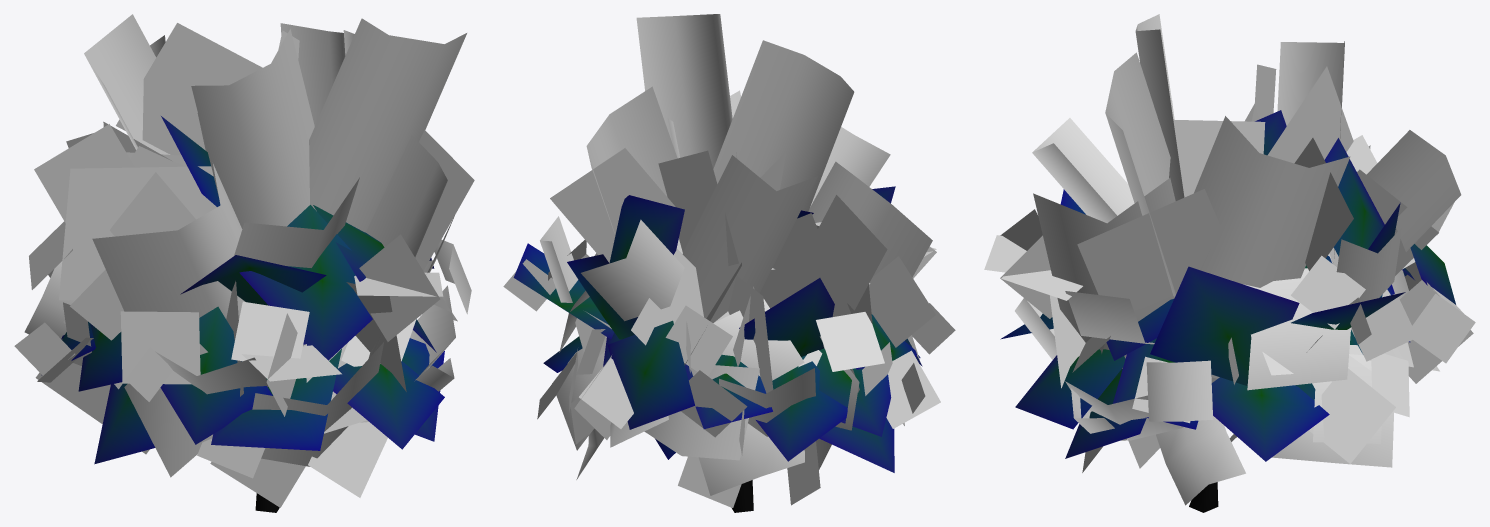
The model's file is bush_b_large.dae.
The picture shows the model from 3 angles, left to right: view 1: azimuth 30°, elevation 25°; view 2: azimuth 150°, elevation 25°; view 3: azimuth 270°, elevation 25°; orthographic projection. The views are drawn at different scales.
Parts seen in each view (by area): view 1: bush_b_large; view 2: bush_b_large; view 3: bush_b_large.
Part boxes in pixels (box(x1,y1,x2,y2)): bush_b_large: box(14, 14, 474, 512); bush_b_large: box(503, 14, 955, 512); bush_b_large: box(984, 14, 1475, 512).
Size of the model in its own units: 2.25 by 2.38 by 2.57.
